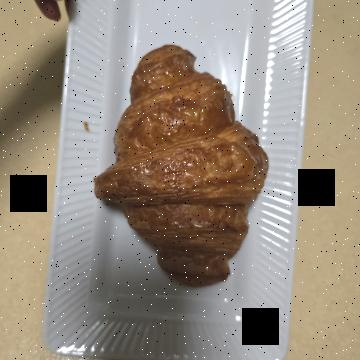croissant: (32, 69, 294, 268)
